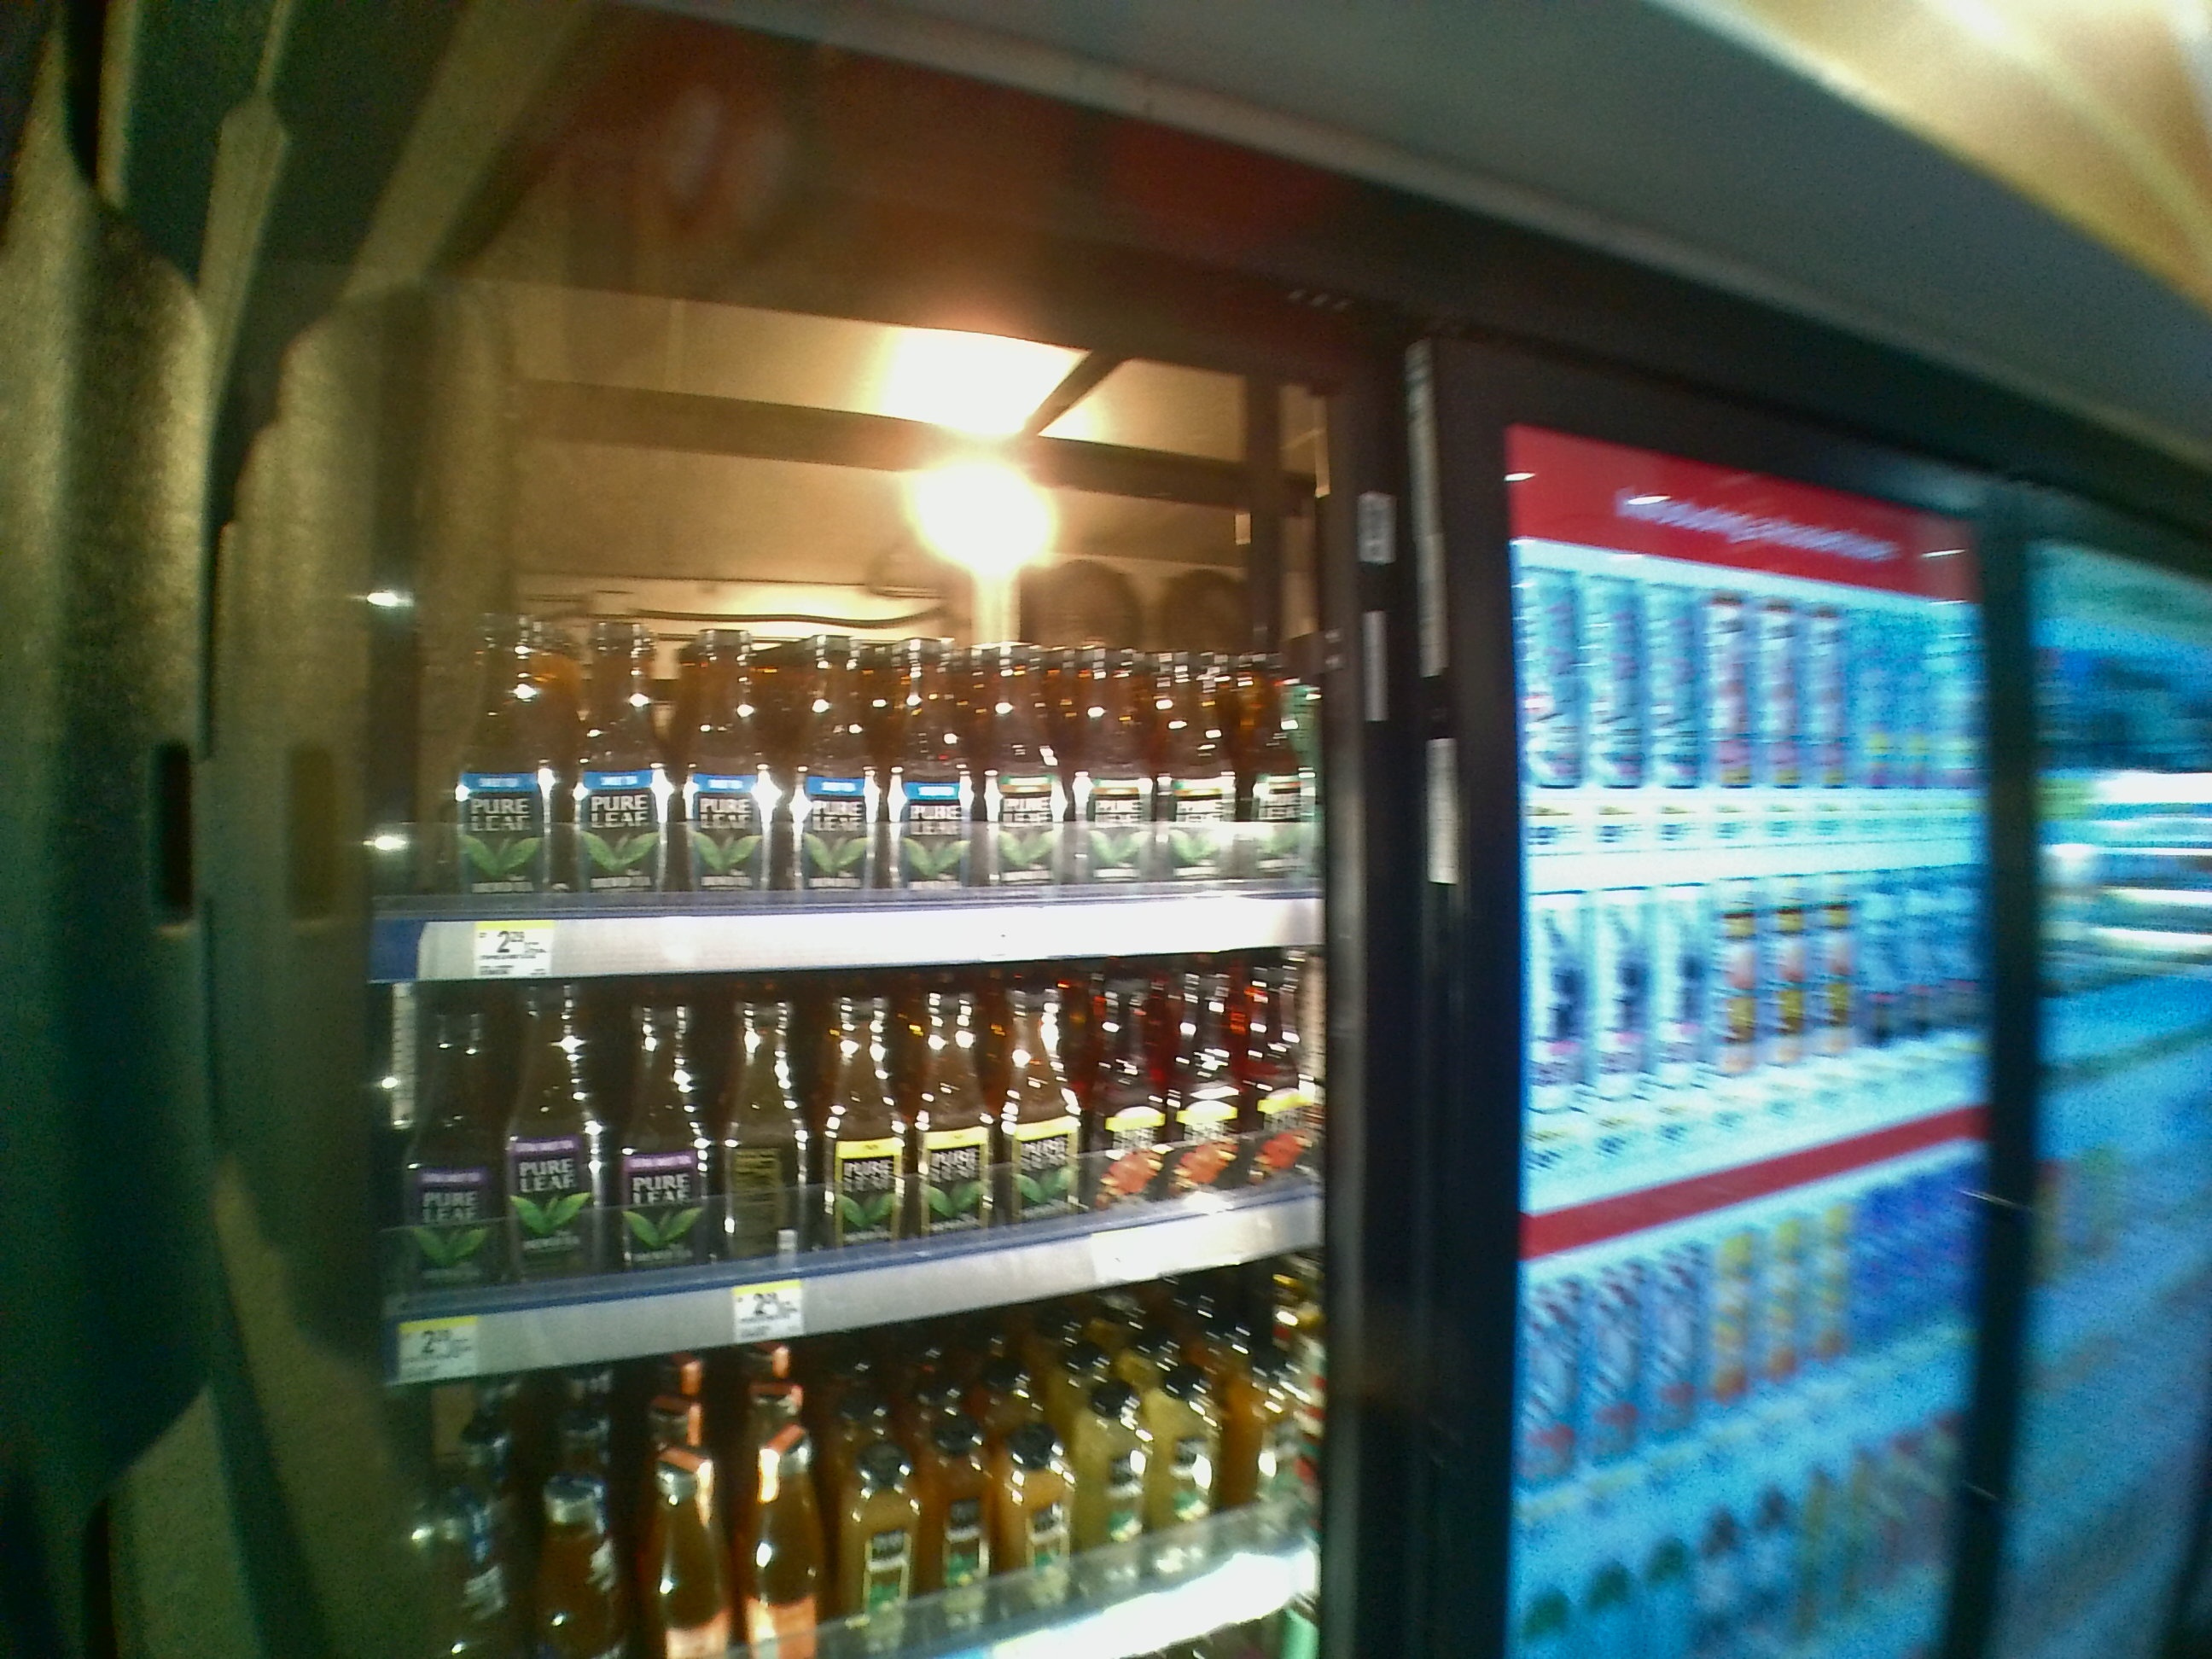shelf: (366, 441, 1332, 978), (371, 990, 1332, 1366)
